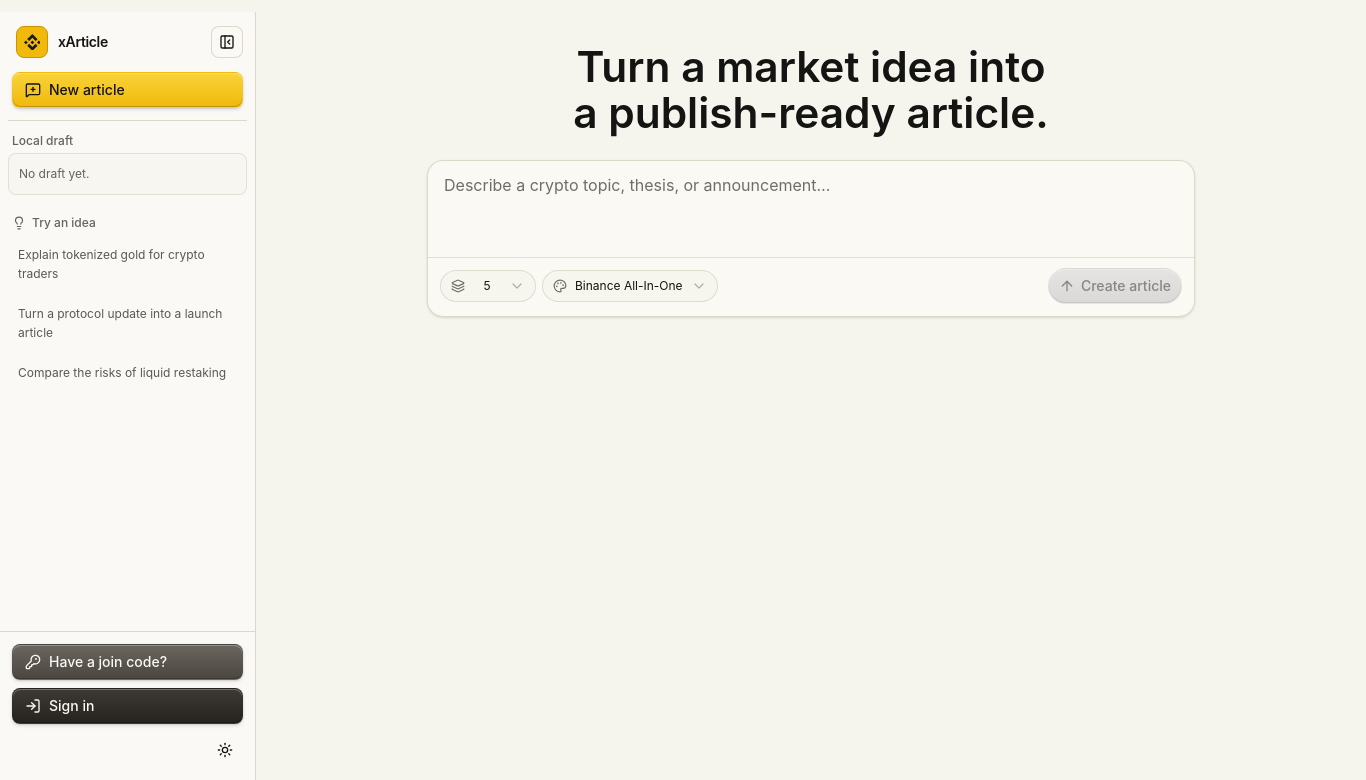
it: PublicHome › keeps the prompt visible and explains the problem when tab storage is denied
The width and height of the screenshot is (1366, 780).
Step 1. Type "Explain tokenized gold settlement for crypto traders." into the text box named "Article idea" → [811, 209], box [428,161,1194,257]
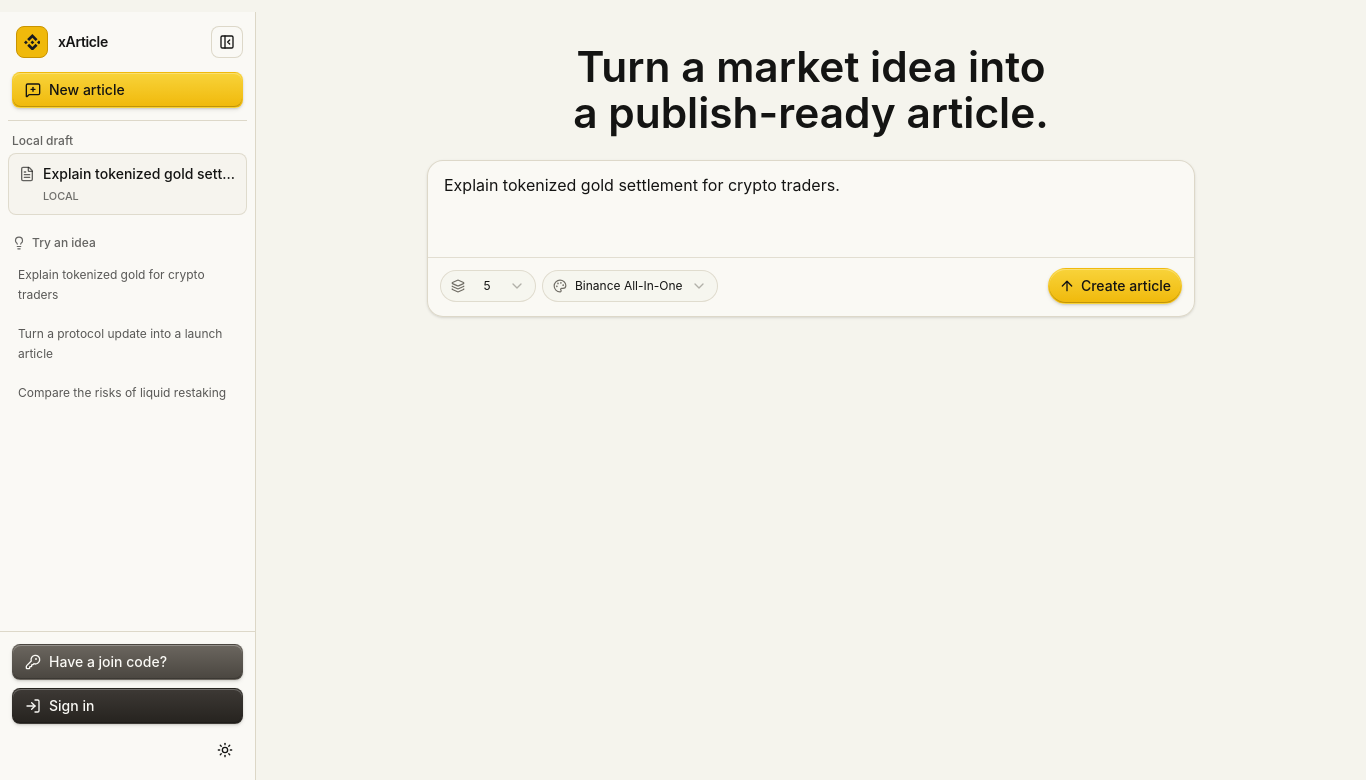
Step 2. Click the button "Create article" → [1115, 286], box [1048,268,1182,304]
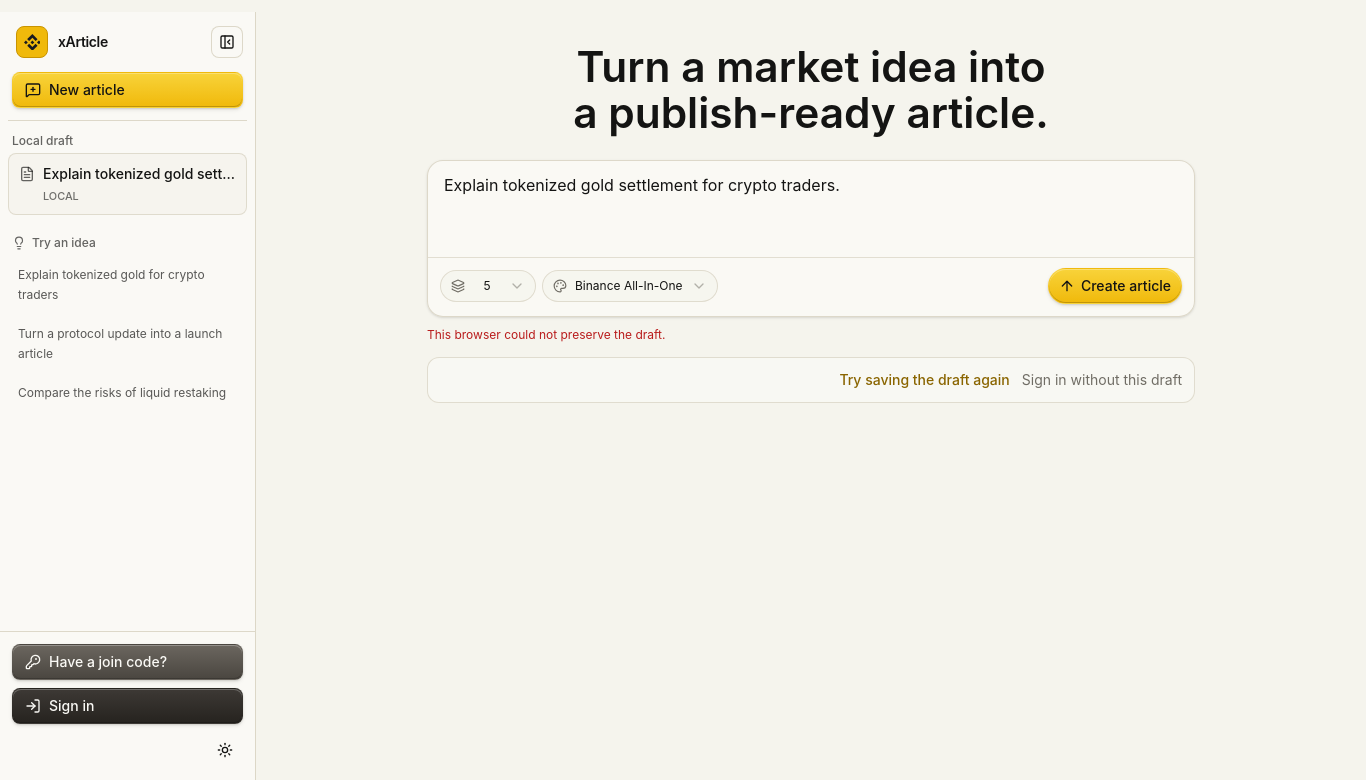
Expected: the message reads "This browser could not preserve the draft.", [427,327,666,342]
